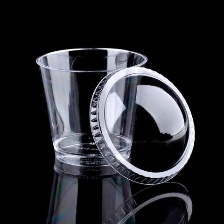glass: (32, 42, 152, 180)
